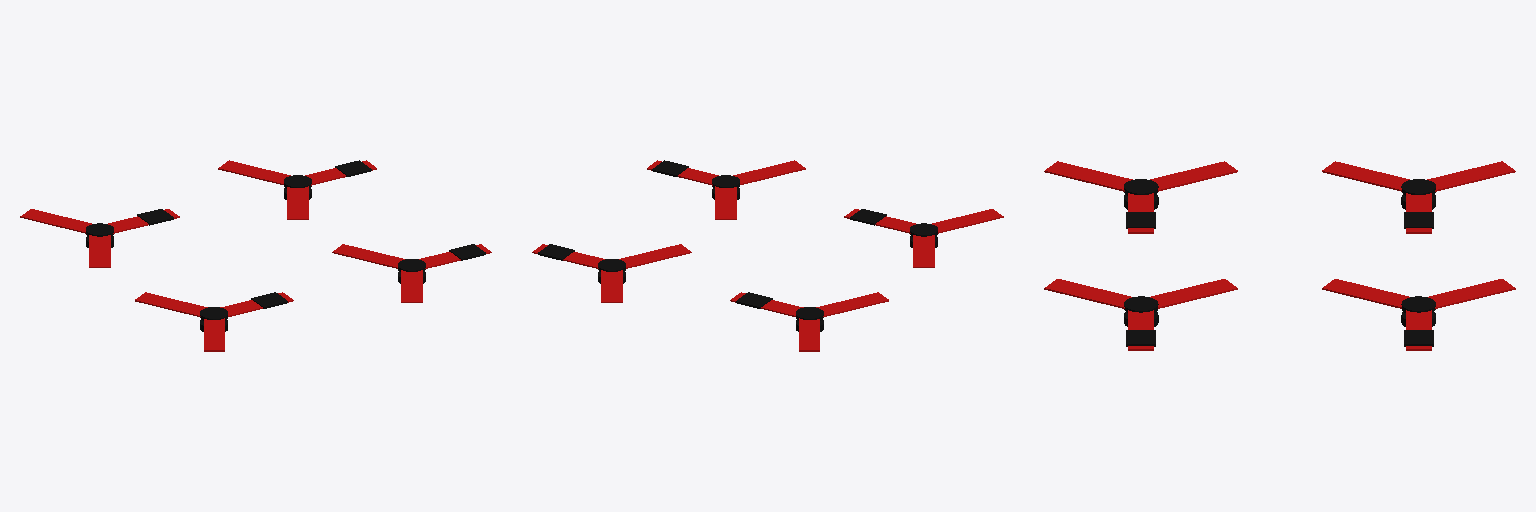
robot.urdf — drone:
<?xml version="1.0" ?>
<robot name="drone">

  <material name="white"><color rgba="0.65 0.65 0.65 1.0"/></material>
  <material name="green"><color rgba="0.1 0.1 0.1 1.0"/></material>
  <material name="red"><color rgba="0.8 0.1 0.1 1.0"/></material>
  <material name="rotor_red"><color rgba="0.8 0.1 0.1 1.0"/></material>
  <material name="body_color"><color rgba="0.1 0.1 0.1 1.0"/></material>

  <link name="base_link">
    <visual>
      <origin rpy="0 0 0" xyz="0 0 0"/>
      <geometry>
        <mesh filename="Dronebase.stl" scale="1 1 1"/>
      </geometry>
      <material name="white"/>
    </visual>
    <collision>
      <origin rpy="0 0 0" xyz="0 0 0"/>
      <geometry>
        <box size="0.4 0.4 0.05"/>
      </geometry>
    </collision>
    <inertial>
      <mass value="2.0"/>
      <inertia ixx="0.02166666666666667" ixy="0" ixz="0" iyy="0.02166666666666667" iyz="0" izz="0.04000000000000001"/>
    </inertial>
  </link>

  <link name="front_right_prop">
    <visual><origin rpy="0 0 0" xyz="0 0 0"/><geometry><cylinder length="0.01" radius="0.02"/></geometry><material name="green"/></visual>
    <inertial><mass value="0"/><inertia ixx="0" ixy="0" ixz="0" iyy="0" iyz="0" izz="0"/></inertial>
  </link>
  <joint name="base_to_front_right_prop" type="fixed">
    <parent link="base_link"/><child link="front_right_prop"/><origin xyz="0.16 -0.16 0"/><axis xyz="1 0 0"/>
  </joint>

  <link name="back_left_prop">
    <visual><origin rpy="0 0 0" xyz="0 0 0"/><geometry><cylinder length="0.01" radius="0.02"/></geometry><material name="green"/></visual>
    <inertial><mass value="0"/><inertia ixx="0" ixy="0" ixz="0" iyy="0" iyz="0" izz="0"/></inertial>
  </link>
  <joint name="base_to_back_left_prop" type="fixed">
    <parent link="base_link"/><child link="back_left_prop"/><origin xyz="-0.16 0.16 0"/><axis xyz="1 0 0"/>
  </joint>

  <link name="front_left_prop">
    <visual><origin rpy="0 0 0" xyz="0 0 0"/><geometry><cylinder length="0.01" radius="0.02"/></geometry><material name="green"/></visual>
    <inertial><mass value="0"/><inertia ixx="0" ixy="0" ixz="0" iyy="0" iyz="0" izz="0"/></inertial>
  </link>
  <joint name="base_to_front_left_prop" type="fixed">
    <parent link="base_link"/><child link="front_left_prop"/><origin xyz="0.16 0.16 0"/><axis xyz="1 0 0"/>
  </joint>

  <link name="back_right_prop">
    <visual><origin rpy="0 0 0" xyz="0 0 0"/><geometry><cylinder length="0.01" radius="0.02"/></geometry><material name="green"/></visual>
    <inertial><mass value="0"/><inertia ixx="0" ixy="0" ixz="0" iyy="0" iyz="0" izz="0"/></inertial>
  </link>
  <joint name="base_to_back_right_prop" type="fixed">
    <parent link="base_link"/><child link="back_right_prop"/><origin xyz="-0.16 -0.16 0"/><axis xyz="1 0 0"/>
  </joint>

  <link name="body">
    <inertial><origin rpy="0 0 0" xyz="0 0 0"/><mass value="0"/><inertia ixx="0" ixy="0" ixz="0" iyy="0" iyz="0" izz="0"/></inertial>
  </link>
  <joint name="body_link" type="fixed">
    <parent link="base_link"/><child link="body"/><origin xyz="0 0 0"/><axis xyz="0 0 0"/>
  </joint>

  <link name="visual_rotor1">
    <inertial><mass value="0"/><inertia ixx="0" ixy="0" ixz="0" iyy="0" iyz="0" izz="0"/></inertial>
    <visual><origin xyz="0.06 0 0.001" rpy="0 0 0"/><geometry><box size="0.12 0.03 0.002"/></geometry><material name="rotor_red"/></visual>
    <visual><origin xyz="-0.03 0.052 0.001" rpy="0 0 2.0944"/><geometry><box size="0.12 0.03 0.002"/></geometry><material name="rotor_red"/></visual>
    <visual><origin xyz="-0.03 -0.052 0.001" rpy="0 0 -2.0944"/><geometry><box size="0.12 0.03 0.002"/></geometry><material name="rotor_red"/></visual>
    <visual><origin xyz="0.09 0 0.002" rpy="0 0 0"/><geometry><box size="0.04 0.035 0.003"/></geometry><material name="green"/></visual>
    <visual><origin xyz="0 0 0.001" rpy="0 0 0"/><geometry><cylinder radius="0.02" length="0.006"/></geometry><material name="body_color"/></visual>
  </link>
  <joint name="visual_rotor1_joint" type="continuous">
    <parent link="base_link"/><child link="visual_rotor1"/><origin xyz="0.16 -0.16 0.015" rpy="0 0 0"/><axis xyz="0 0 1"/><dynamics damping="0.0" friction="0.0"/>
  </joint>

 <link name="visual_rotor2">
    <inertial><mass value="0"/><inertia ixx="0" ixy="0" ixz="0" iyy="0" iyz="0" izz="0"/></inertial>
    <visual><origin xyz="0.06 0 0.001" rpy="0 0 0"/><geometry><box size="0.12 0.03 0.002"/></geometry><material name="rotor_red"/></visual>
    <visual><origin xyz="-0.03 0.052 0.001" rpy="0 0 2.0944"/><geometry><box size="0.12 0.03 0.002"/></geometry><material name="rotor_red"/></visual>
    <visual><origin xyz="-0.03 -0.052 0.001" rpy="0 0 -2.0944"/><geometry><box size="0.12 0.03 0.002"/></geometry><material name="rotor_red"/></visual>
    <visual><origin xyz="0.09 0 0.002" rpy="0 0 0"/><geometry><box size="0.04 0.035 0.003"/></geometry><material name="green"/></visual>
    <visual><origin xyz="0 0 0.001" rpy="0 0 0"/><geometry><cylinder radius="0.02" length="0.006"/></geometry><material name="body_color"/></visual>
  </link>
  <joint name="visual_rotor2_joint" type="continuous">
    <parent link="base_link"/><child link="visual_rotor2"/><origin xyz="-0.16 0.16 0.015" rpy="0 0 0"/><axis xyz="0 0 1"/><dynamics damping="0.0" friction="0.0"/>
  </joint>

  <link name="visual_rotor3">
    <inertial><mass value="0"/><inertia ixx="0" ixy="0" ixz="0" iyy="0" iyz="0" izz="0"/></inertial>
    <visual><origin xyz="0.06 0 0.001" rpy="0 0 0"/><geometry><box size="0.12 0.03 0.002"/></geometry><material name="rotor_red"/></visual>
    <visual><origin xyz="-0.03 0.052 0.001" rpy="0 0 2.0944"/><geometry><box size="0.12 0.03 0.002"/></geometry><material name="rotor_red"/></visual>
    <visual><origin xyz="-0.03 -0.052 0.001" rpy="0 0 -2.0944"/><geometry><box size="0.12 0.03 0.002"/></geometry><material name="rotor_red"/></visual>
    <visual><origin xyz="0.09 0 0.002" rpy="0 0 0"/><geometry><box size="0.04 0.035 0.003"/></geometry><material name="green"/></visual>
    <visual><origin xyz="0 0 0.001" rpy="0 0 0"/><geometry><cylinder radius="0.02" length="0.006"/></geometry><material name="body_color"/></visual>
  </link>
  <joint name="visual_rotor3_joint" type="continuous">
    <parent link="base_link"/><child link="visual_rotor3"/><origin xyz="0.16 0.16 0.015" rpy="0 0 0"/><axis xyz="0 0 1"/><dynamics damping="0.0" friction="0.0"/>
  </joint>

  <link name="visual_rotor4">
    <inertial><mass value="0"/><inertia ixx="0" ixy="0" ixz="0" iyy="0" iyz="0" izz="0"/></inertial>
    <visual><origin xyz="0.06 0 0.001" rpy="0 0 0"/><geometry><box size="0.12 0.03 0.002"/></geometry><material name="rotor_red"/></visual>
    <visual><origin xyz="-0.03 0.052 0.001" rpy="0 0 2.0944"/><geometry><box size="0.12 0.03 0.002"/></geometry><material name="rotor_red"/></visual>
    <visual><origin xyz="-0.03 -0.052 0.001" rpy="0 0 -2.0944"/><geometry><box size="0.12 0.03 0.002"/></geometry><material name="rotor_red"/></visual>
    <visual><origin xyz="0.09 0 0.002" rpy="0 0 0"/><geometry><box size="0.04 0.035 0.003"/></geometry><material name="green"/></visual>
    <visual><origin xyz="0 0 0.001" rpy="0 0 0"/><geometry><cylinder radius="0.02" length="0.006"/></geometry><material name="body_color"/></visual>
  </link>
  <joint name="visual_rotor4_joint" type="continuous">
    <parent link="base_link"/><child link="visual_rotor4"/><origin xyz="-0.16 -0.16 0.015" rpy="0 0 0"/><axis xyz="0 0 1"/><dynamics damping="0.0" friction="0.0"/>
  </joint>
</robot>

--- Facts derived from the render (not from the file) ---
3 views of the same robot in one strip: view 1: azimuth 30°, elevation 25°; view 2: azimuth 150°, elevation 25°; view 3: azimuth 270°, elevation 25° (orthographic).
Model drone with 10 links and 9 joints (4 continuous, 5 fixed), rooted at base_link, posed every joint at zero.
Visible links, largest first — view 1: visual_rotor3, visual_rotor2, visual_rotor1, visual_rotor4; view 2: visual_rotor1, visual_rotor4, visual_rotor3, visual_rotor2; view 3: visual_rotor2, visual_rotor4, visual_rotor1, visual_rotor3.
Link boxes in pixels (x1=…): visual_rotor3: x1=218, y1=160, x2=376, y2=219; visual_rotor2: x1=20, y1=209, x2=179, y2=267; visual_rotor1: x1=332, y1=244, x2=491, y2=302; visual_rotor4: x1=135, y1=292, x2=293, y2=351; visual_rotor1: x1=647, y1=160, x2=805, y2=219; visual_rotor4: x1=844, y1=209, x2=1003, y2=267; visual_rotor3: x1=532, y1=244, x2=691, y2=302; visual_rotor2: x1=730, y1=292, x2=888, y2=351; visual_rotor2: x1=1322, y1=161, x2=1515, y2=233; visual_rotor4: x1=1044, y1=161, x2=1237, y2=233; visual_rotor1: x1=1044, y1=279, x2=1237, y2=350; visual_rotor3: x1=1322, y1=279, x2=1515, y2=350.
Bounding box of the posed robot: 0.513 × 0.5429 × 0.024 m (x, y, z).
Meshes: 1 distinct files referenced, 0 mesh visuals loaded (none loaded); not drawn: 1 (reference not matched to a file when rendering).
